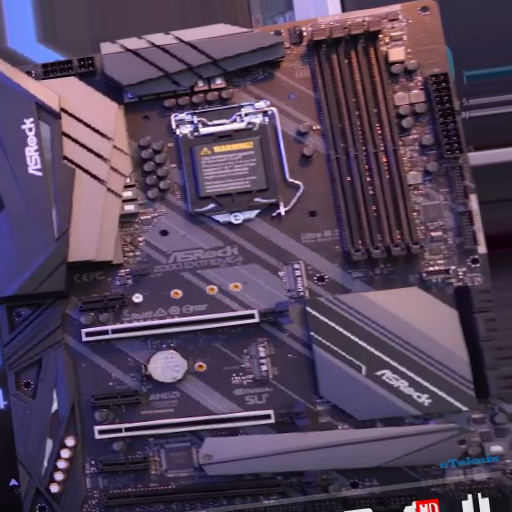CPU: (177, 113, 280, 226)
GPU: (79, 300, 295, 343), (93, 471, 324, 509), (94, 402, 311, 441)
MOTHERBOARD: (4, 3, 509, 499)
RAM: (307, 18, 427, 261)
SSD: (240, 338, 278, 384), (279, 261, 310, 303)
